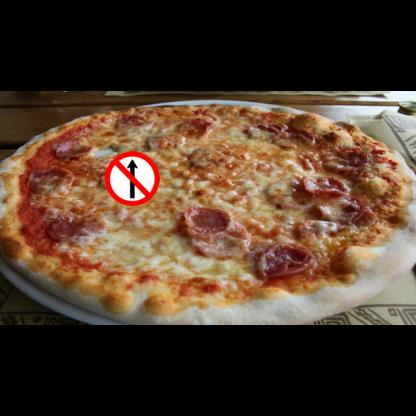R-3: (105, 151, 160, 206)
